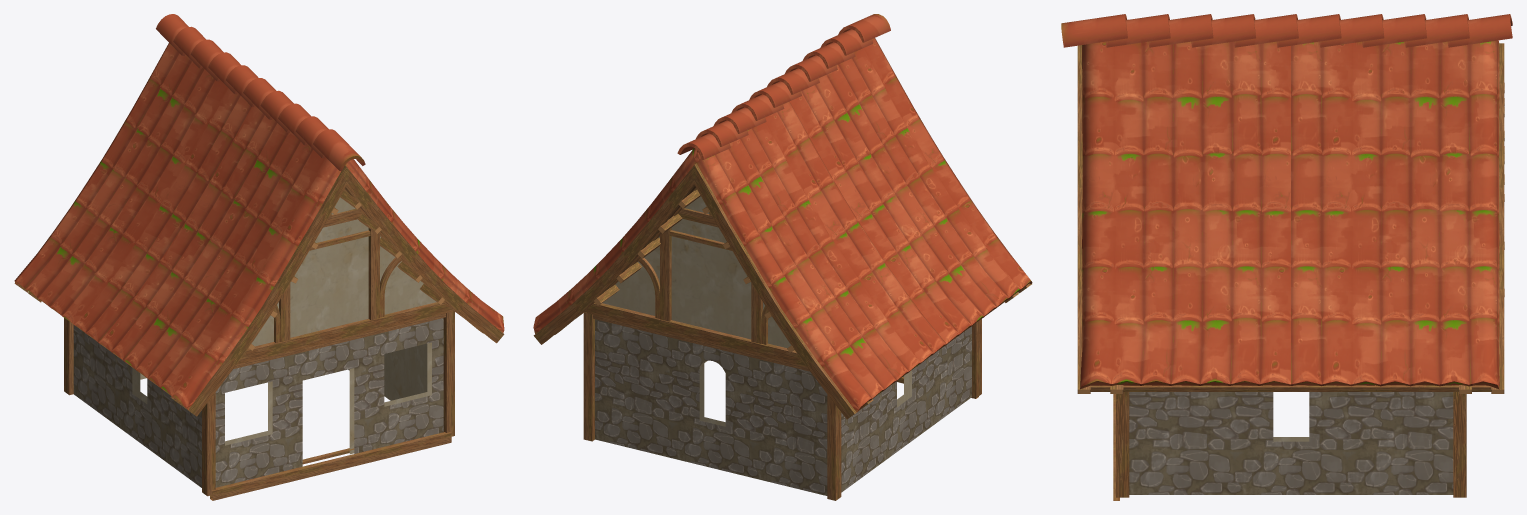
The model's file is house_b_out.gltf.
3 renders of one model, left to right at view 1: azimuth 30°, elevation 25°; view 2: azimuth 150°, elevation 25°; view 3: azimuth 270°, elevation 25°, orthographic. The views are drawn at different scales.
Parts seen in each view (by area): view 1: house_b_out; view 2: house_b_out; view 3: house_b_out.
Part boxes in pixels (bbox=[...]): house_b_out: bbox=[14, 14, 504, 500]; house_b_out: bbox=[533, 14, 1032, 500]; house_b_out: bbox=[1061, 14, 1512, 500].
Bounding box in the file's own units: 8.25 × 8.13 × 8.03.
4 materials, 4 textured.
